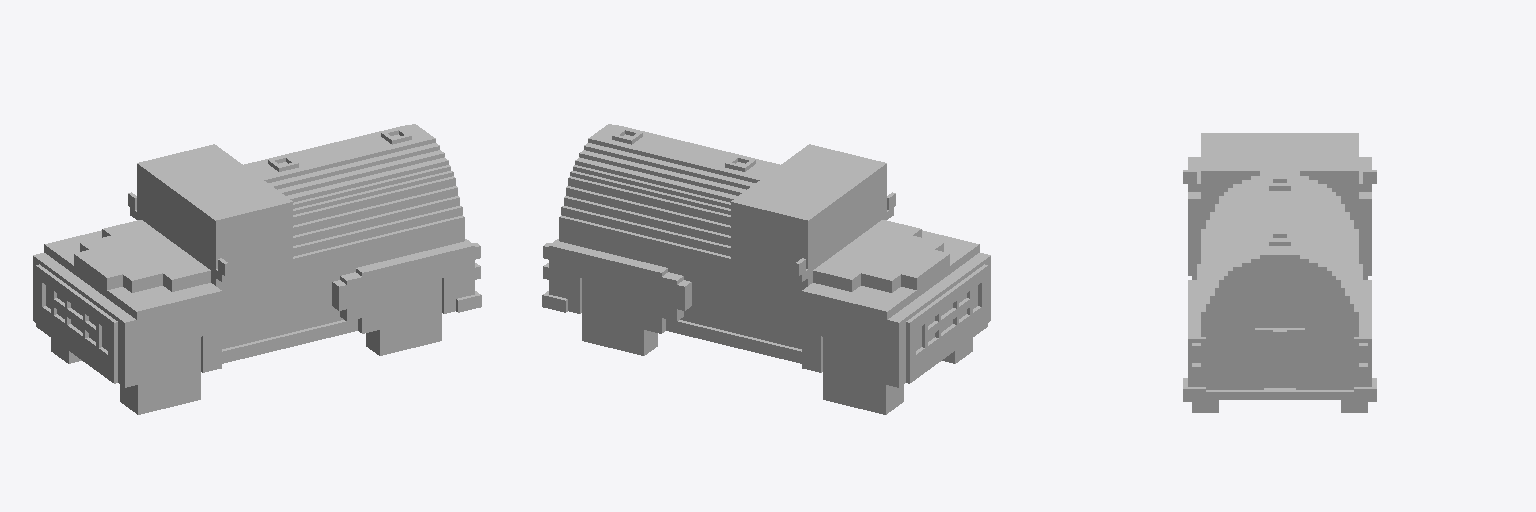
File: alll cars3-65.obj
The picture shows the model from 3 angles: view 1: azimuth 30°, elevation 25°; view 2: azimuth 150°, elevation 25°; view 3: azimuth 270°, elevation 25°; orthographic projection.
Visible parts, largest first — view 1: object 1; view 2: object 1; view 3: object 1.
Boxes of the visible parts, x1=… form: object 1: x1=33, y1=124, x2=481, y2=414; object 1: x1=542, y1=124, x2=990, y2=414; object 1: x1=1183, y1=133, x2=1376, y2=412.
Bounding box in the file's own units: 9.3 × 4.3 × 4.3.